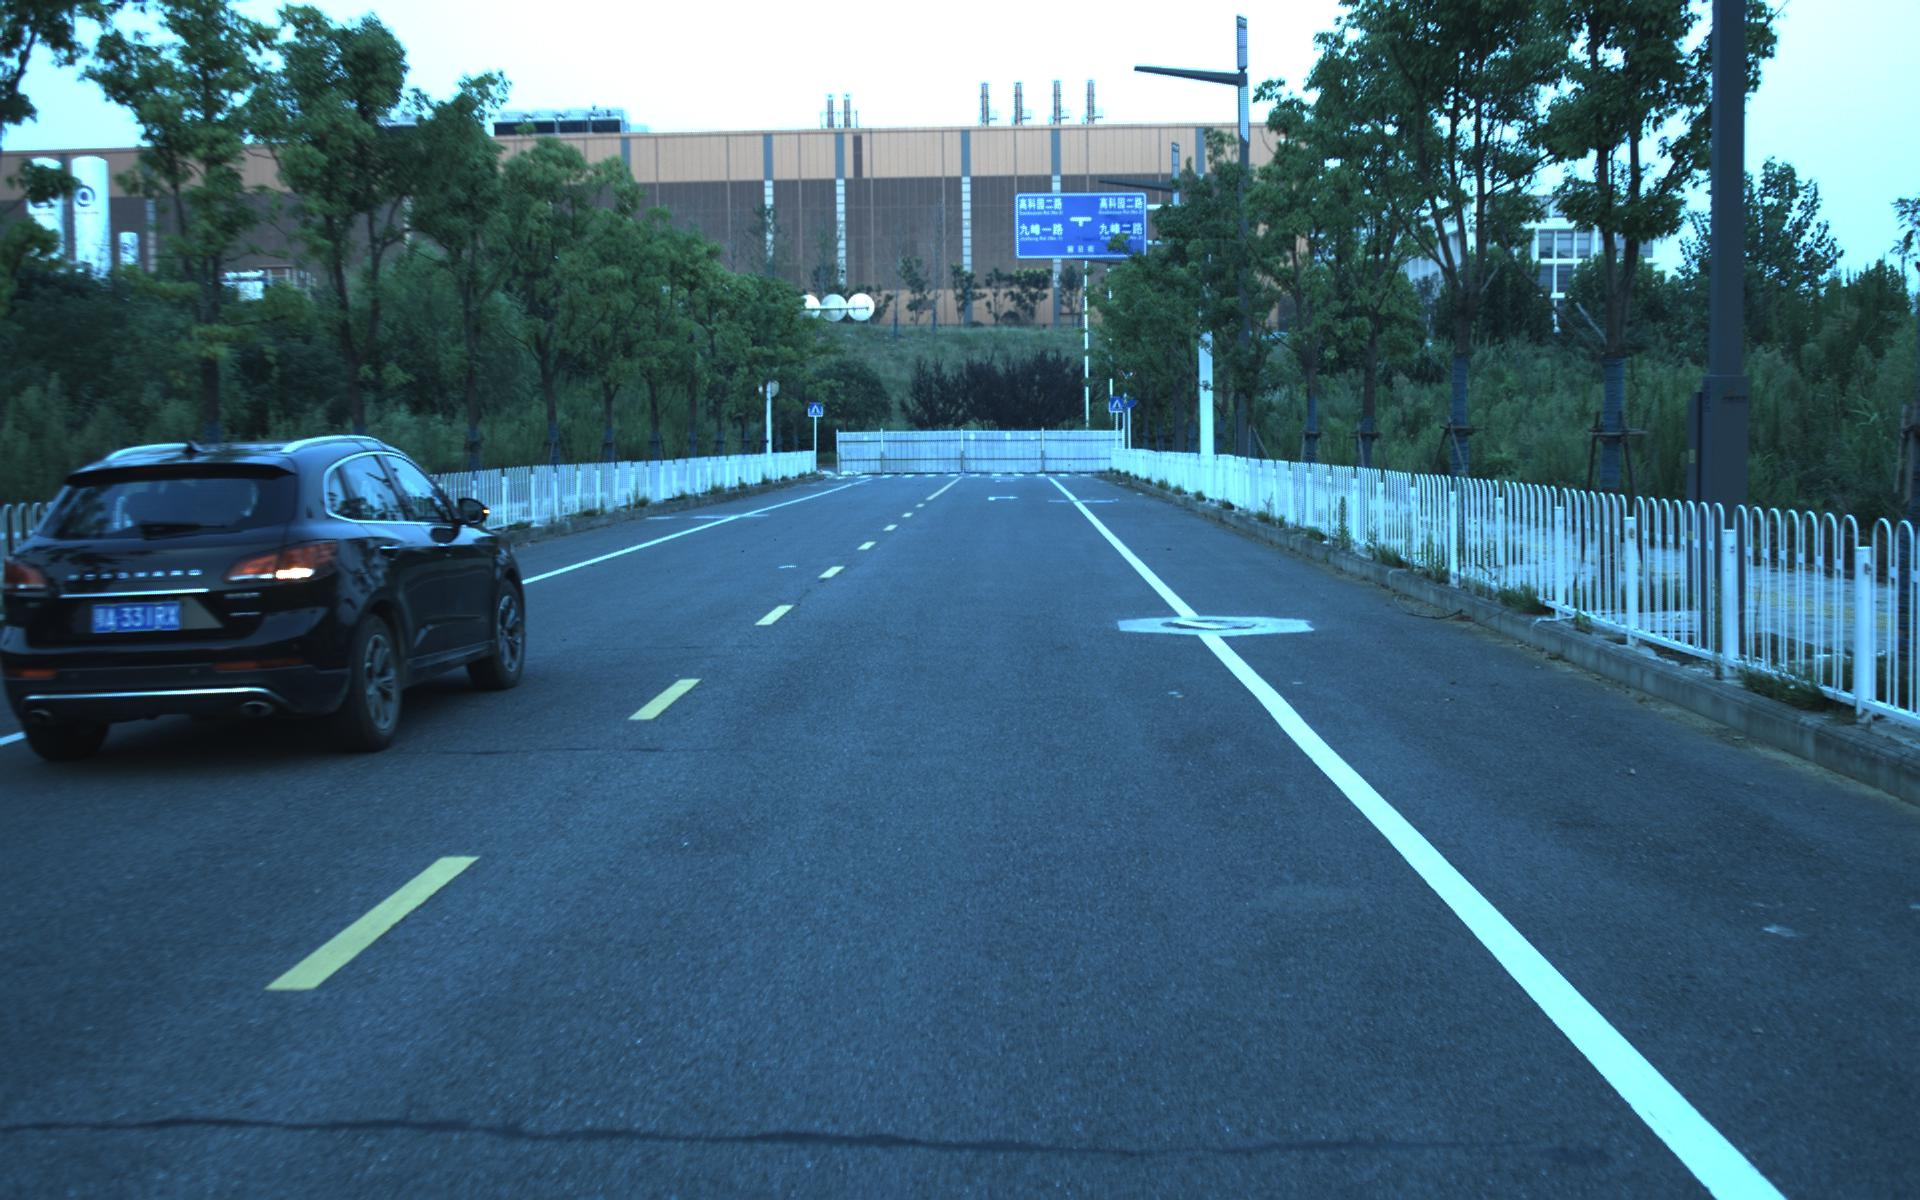Car: (0, 418, 534, 765)
